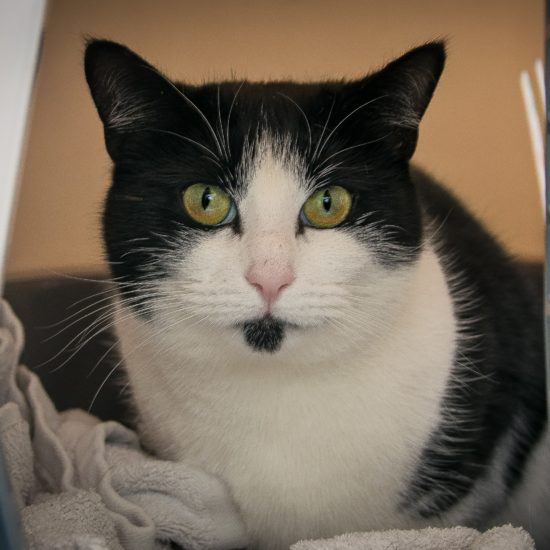cat: (58, 23, 550, 538)
